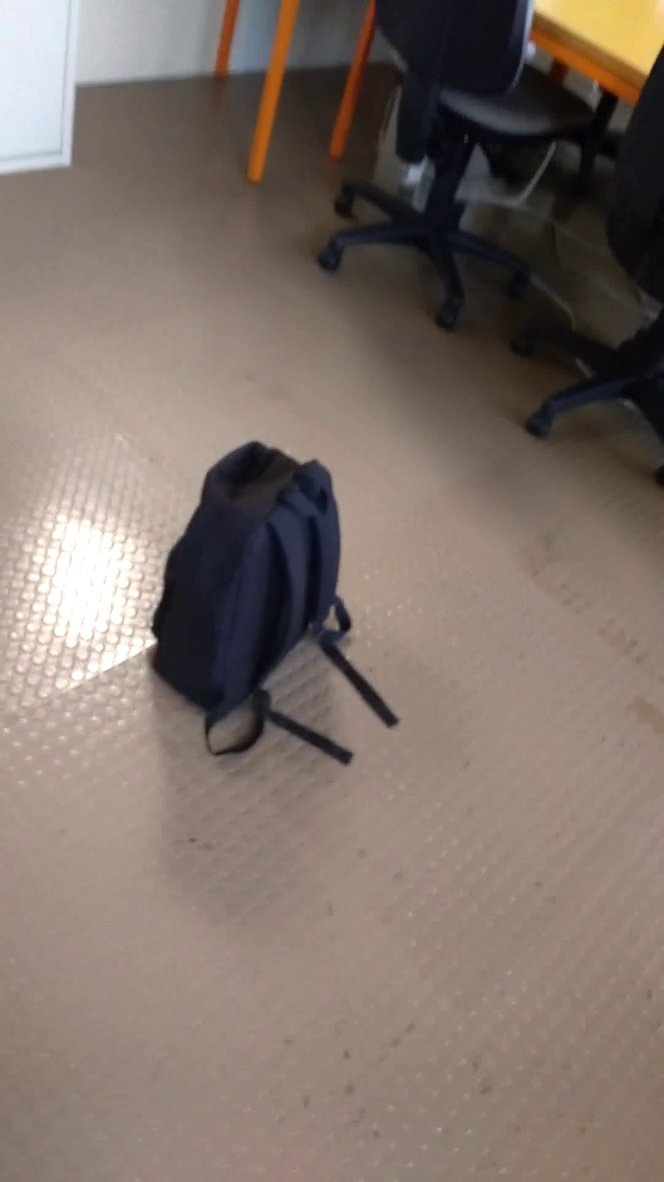bag: (142, 430, 415, 780)
